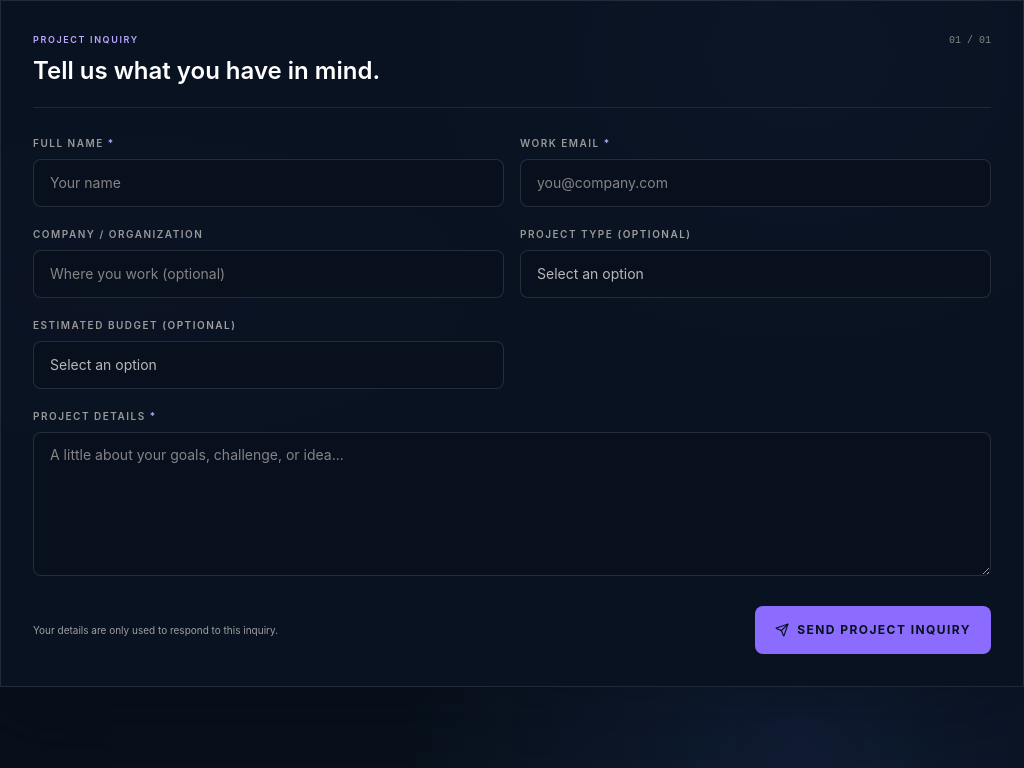
Test: <ProjectInquiryForm /> › sends selected project details and confirms only an accepted response
This screenshot has width=1024, height=768.
Type "Ada Lovelace" into the field labelled "Full Name *" at (268, 182), box x1=33 y1=158 x2=504 y2=206
Type "ada@example.com" into the field labelled "Work Email *" at (756, 182), box x1=520 y1=158 x2=991 y2=206
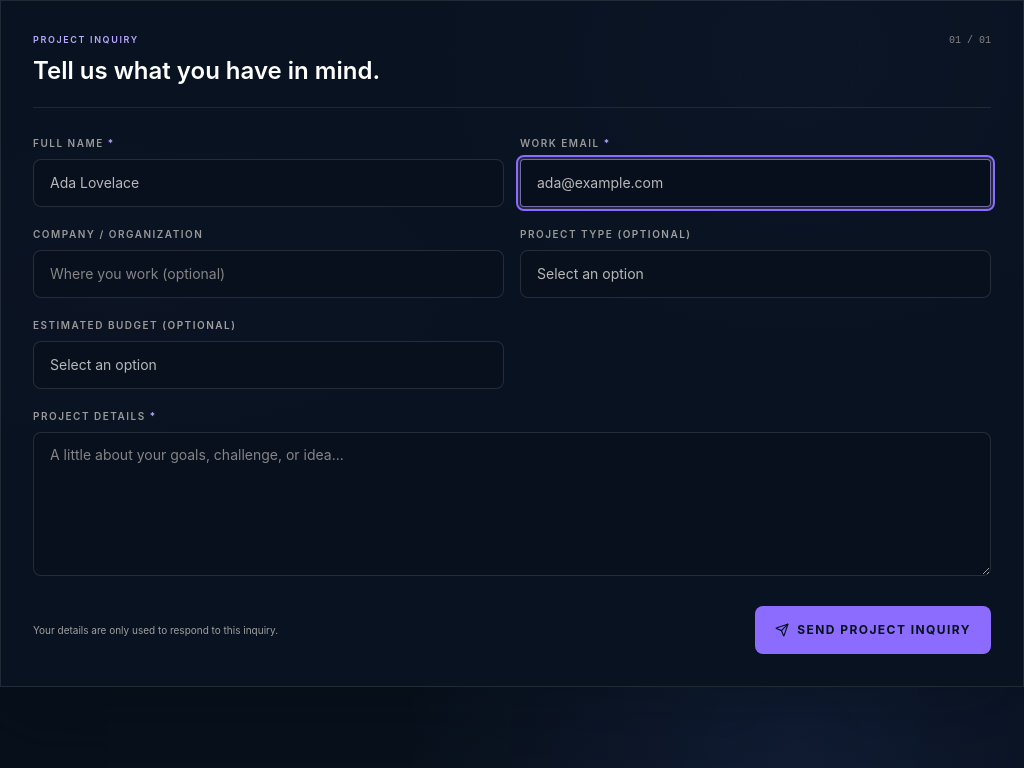
Type "I would love to discuss a new digital product." into the text box labelled "Project Details *" at (512, 504), box x1=33 y1=432 x2=991 y2=576
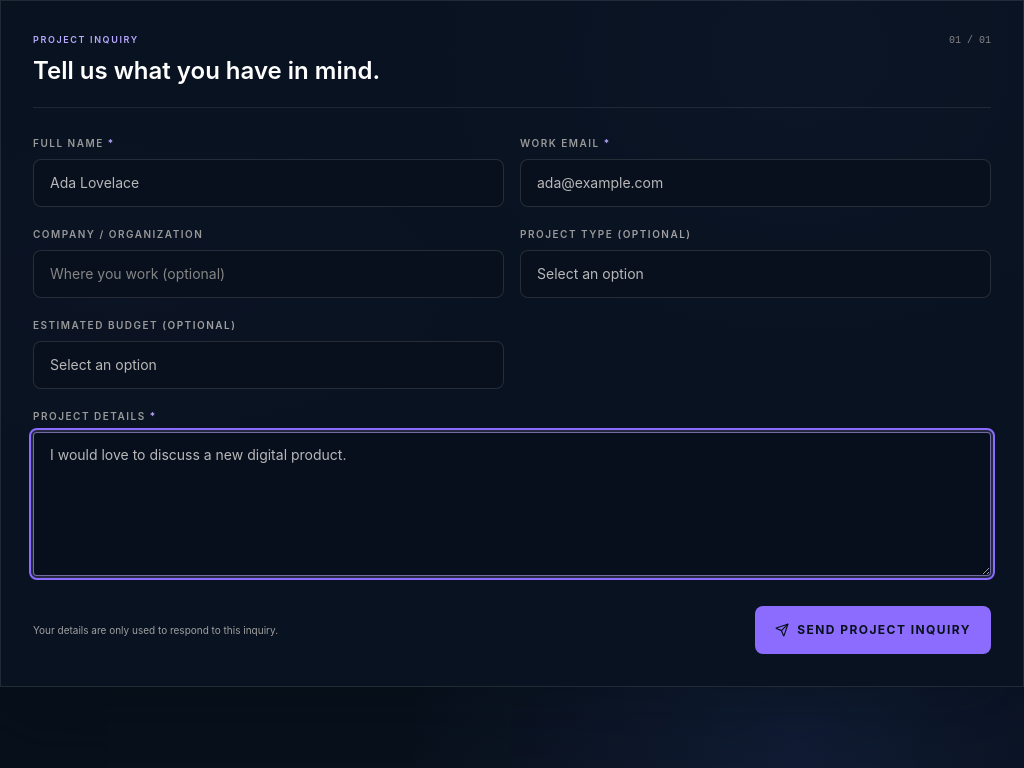
Type "Analytical Engines" into the field labelled "Company / Organization" at (268, 274), box x1=33 y1=250 x2=504 y2=298
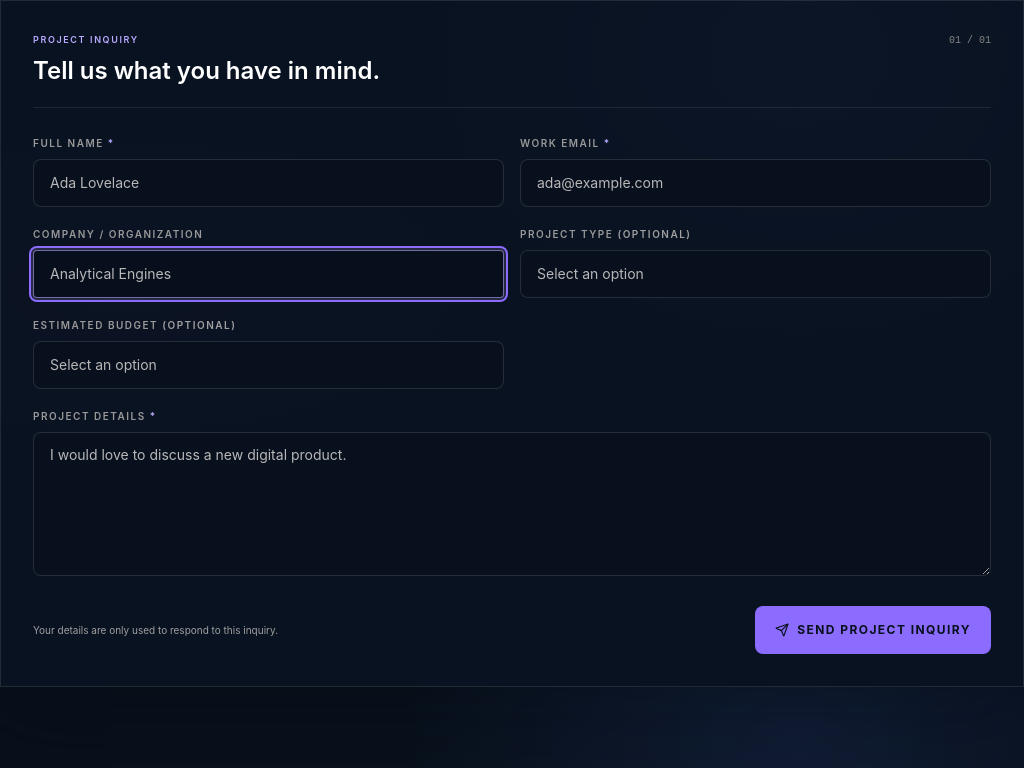
Select "Web Development" in the dropdown labelled "Project Type (optional)" at (756, 274), box x1=520 y1=250 x2=991 y2=298
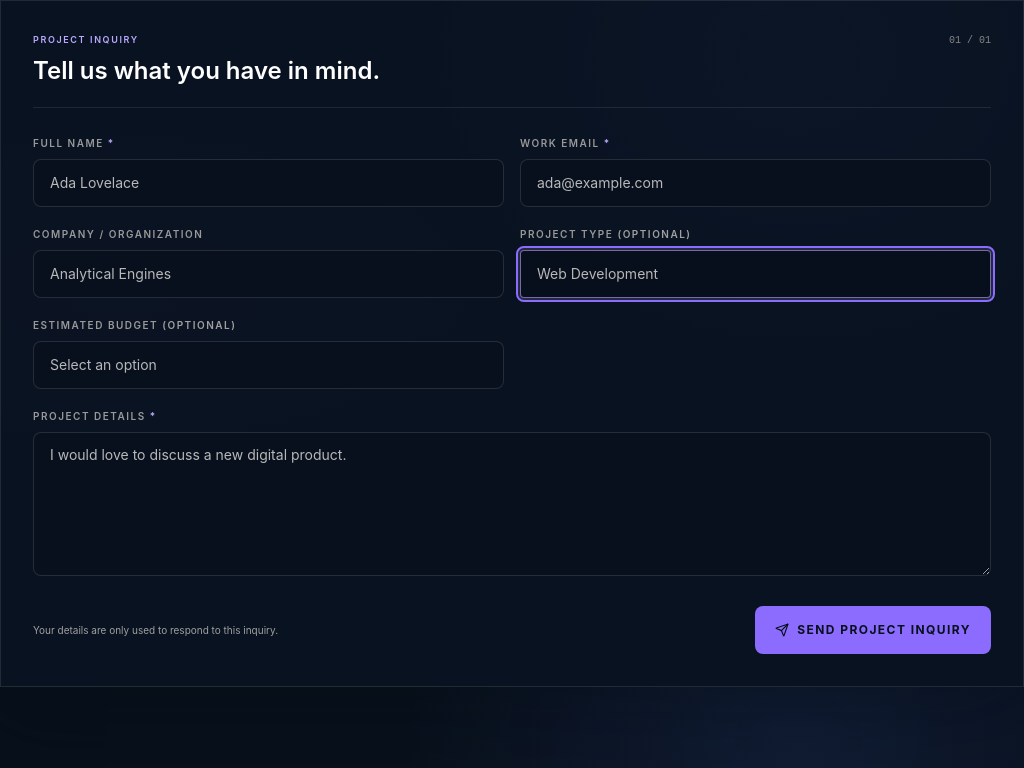
Select "$5,000–$10,000" in the dropdown labelled "Estimated Budget (optional)" at (268, 364), box x1=33 y1=340 x2=504 y2=388
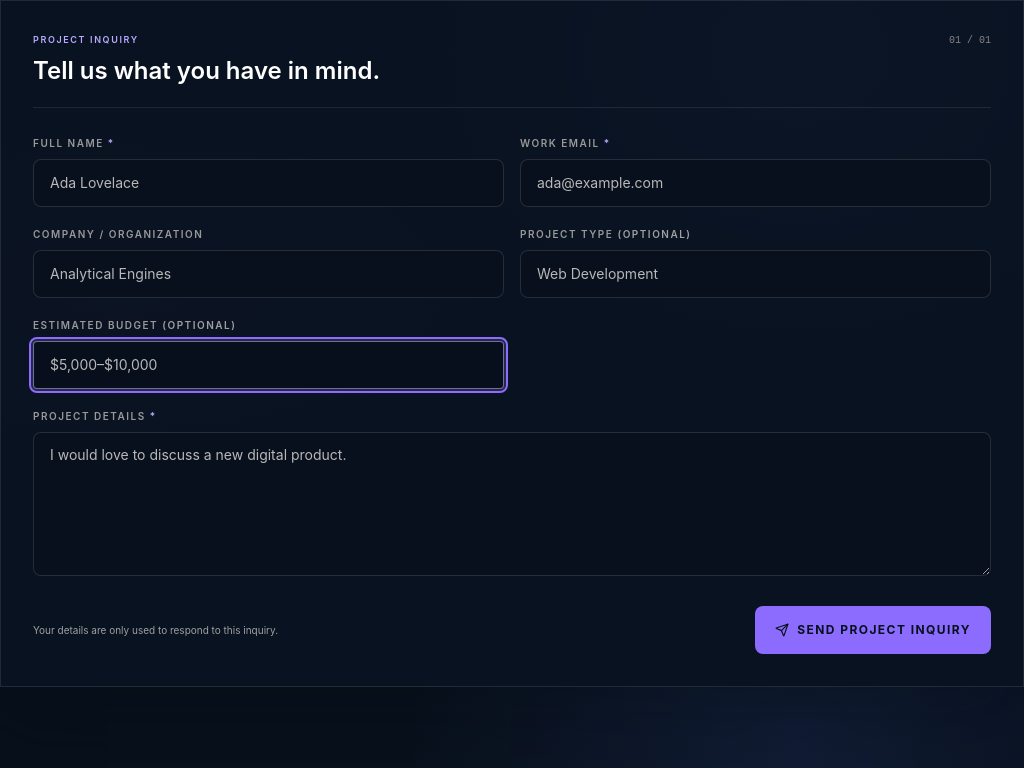
Click the button "Send Project Inquiry" at (873, 630), box x1=755 y1=606 x2=991 y2=654
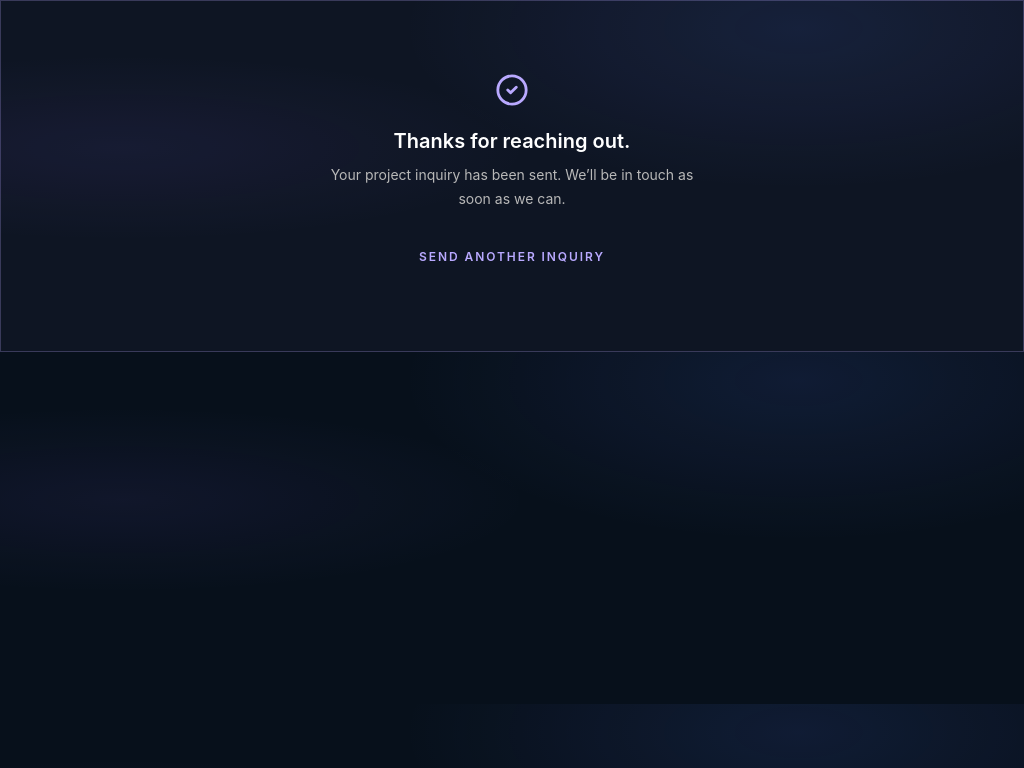
expect the heading "Thanks for reaching out." is shown: met, box x1=394 y1=127 x2=630 y2=155
